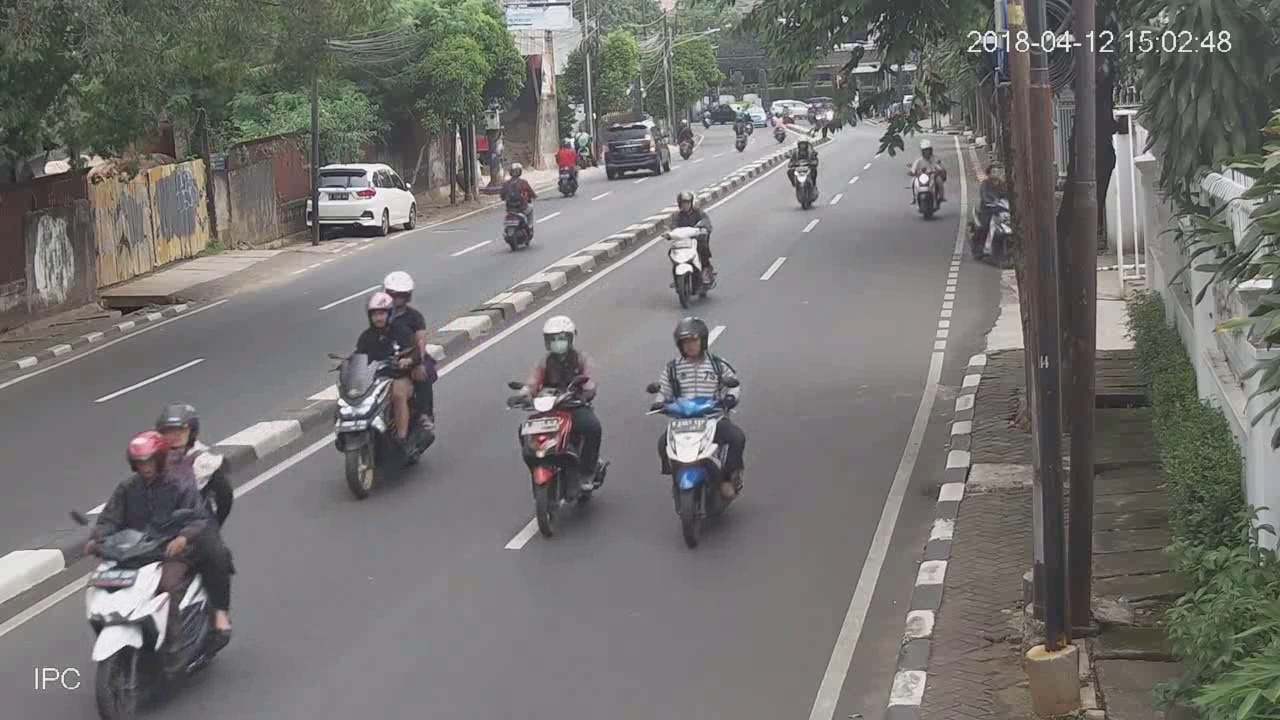car: (304, 158, 422, 241), (604, 116, 668, 181)
motorcycle: (68, 399, 246, 716), (328, 266, 442, 501), (504, 314, 611, 539), (647, 314, 749, 550), (660, 189, 726, 308), (970, 158, 1016, 266), (492, 154, 539, 257), (904, 131, 949, 218), (787, 132, 822, 214), (550, 132, 584, 200)
